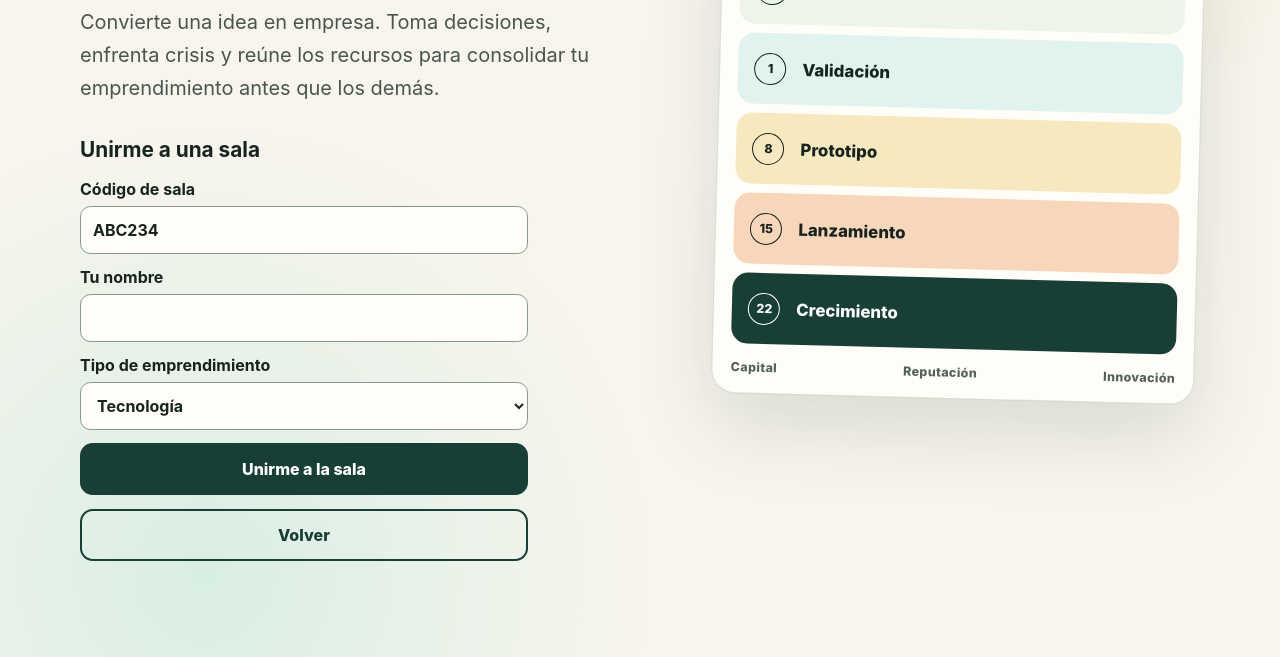
it: lobby de Startup Race › permite unirse desde el código compartido cuando la identidad aún no ocupa un asiento
(page scrolled)
Expected: the field labelled "Código de sala" holds "ABC234", x1=80 y1=206 x2=528 y2=254
Type "Bea" into the field labelled "Tu nombre" at (304, 318), box x1=80 y1=294 x2=528 y2=342
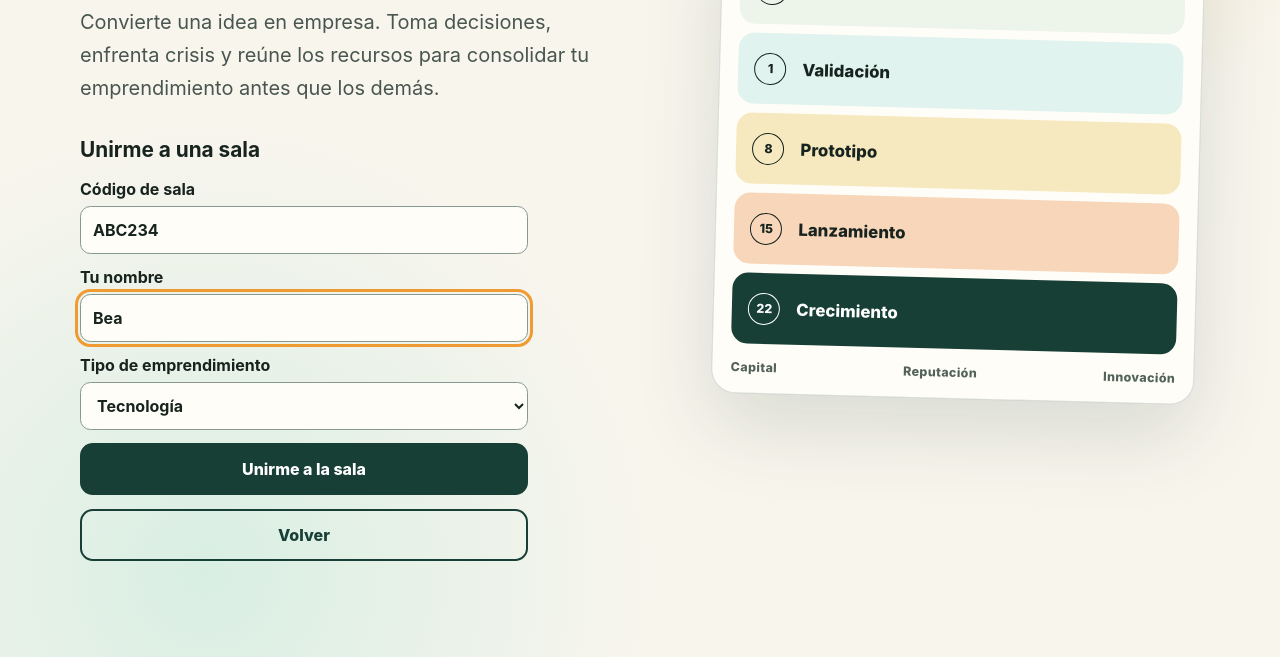
Select "Social" in the dropdown labelled "Tipo de emprendimiento" at (304, 406), box x1=80 y1=382 x2=528 y2=430
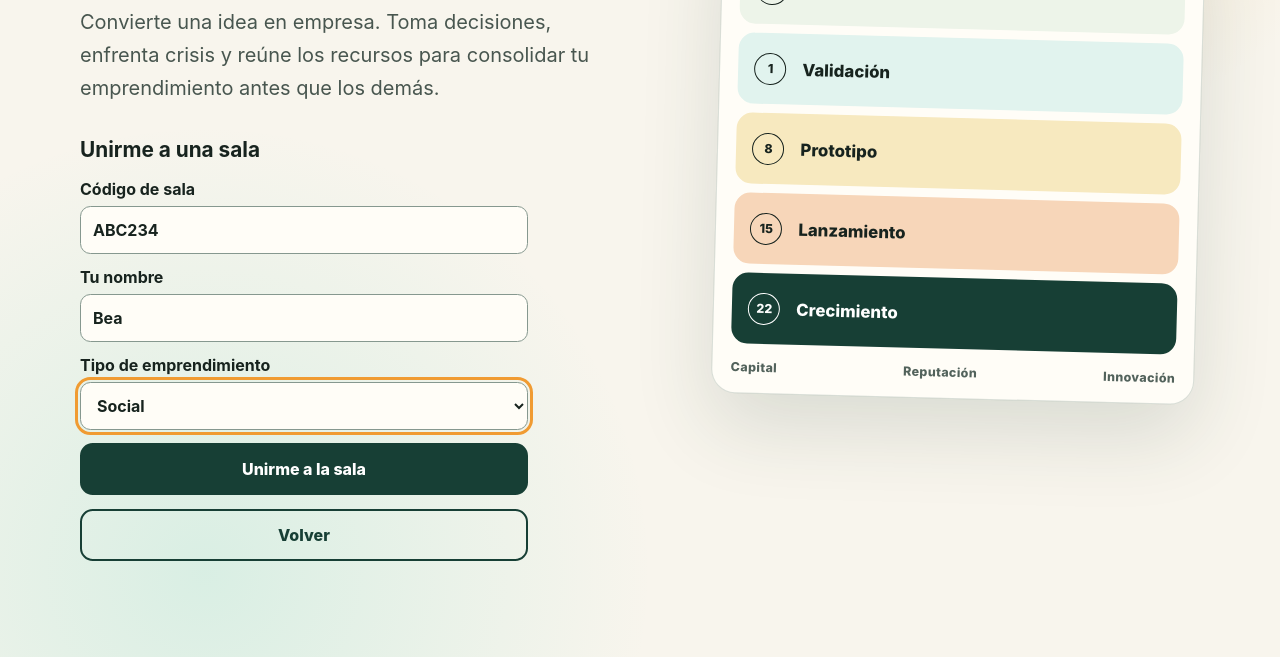
Click the button "Unirme a la sala" at (304, 469), box x1=80 y1=443 x2=528 y2=495
(page scrolled)
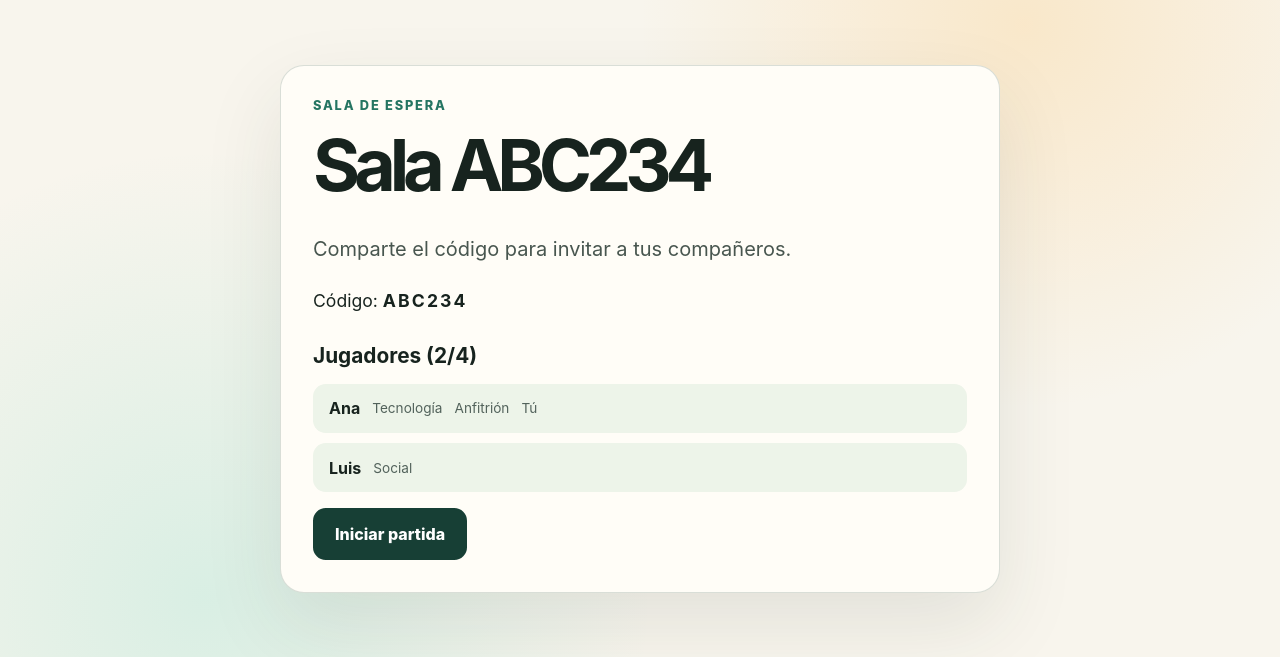
Now the heading "Sala ABC234" is shown, box x1=313 y1=121 x2=708 y2=208
